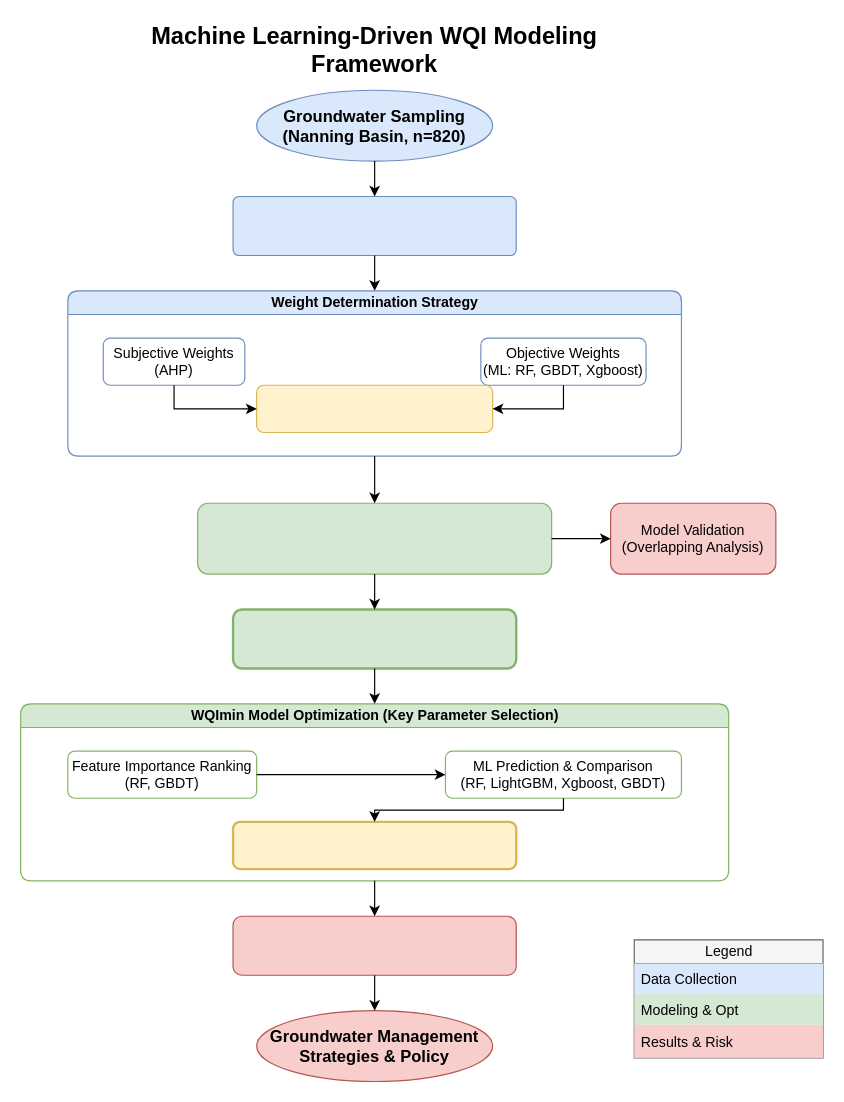
Some shapes in this 844 by 1102 pixel diagram are drawn without their labels. The centre of each missing label's shape, as x and y in pixels:
Combined Weights Calculation (Matrix Method): (374,408)
Indicator Selection & Preprocessing (pH, TDS, NO3-, NH4+, Fe, Mn, etc.): (374,225)
Optimal WQI Model Selection (SWM-wAR): (374,638)
Optimal WQImin Model Identified (GBDT with 5 Key Parameters): (374,845)
Spatial Distribution & Classification (IDW Interpolation): (374,945)
WQI Model Construction Aggregation Functions: NSF, WQM, LQM, SWM: (374,538)
